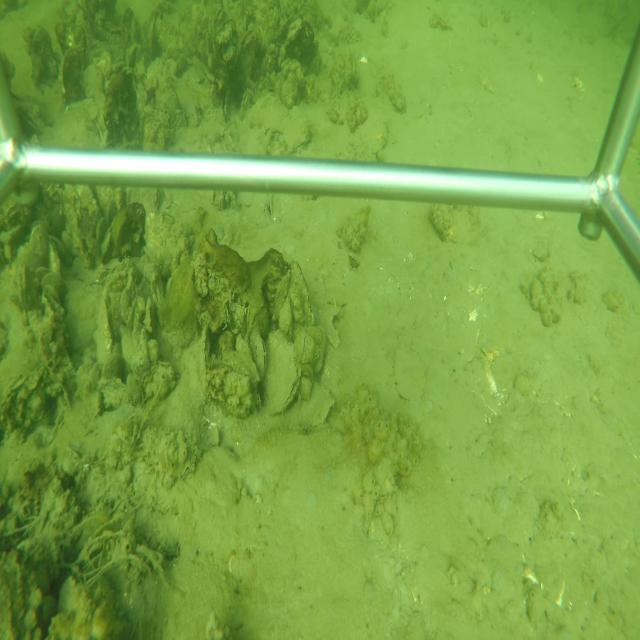Oyster-Closed: (262, 328, 304, 418), (191, 324, 215, 406), (289, 256, 317, 326), (94, 288, 118, 367)
